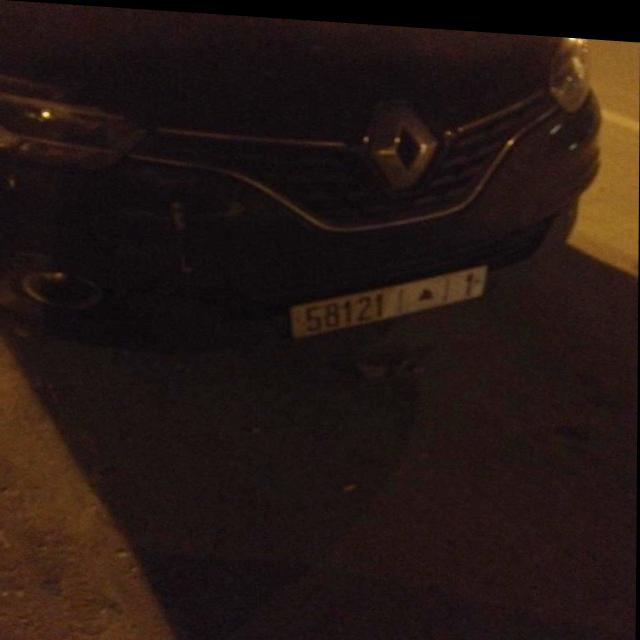License-Plate: (290, 260, 487, 333)
